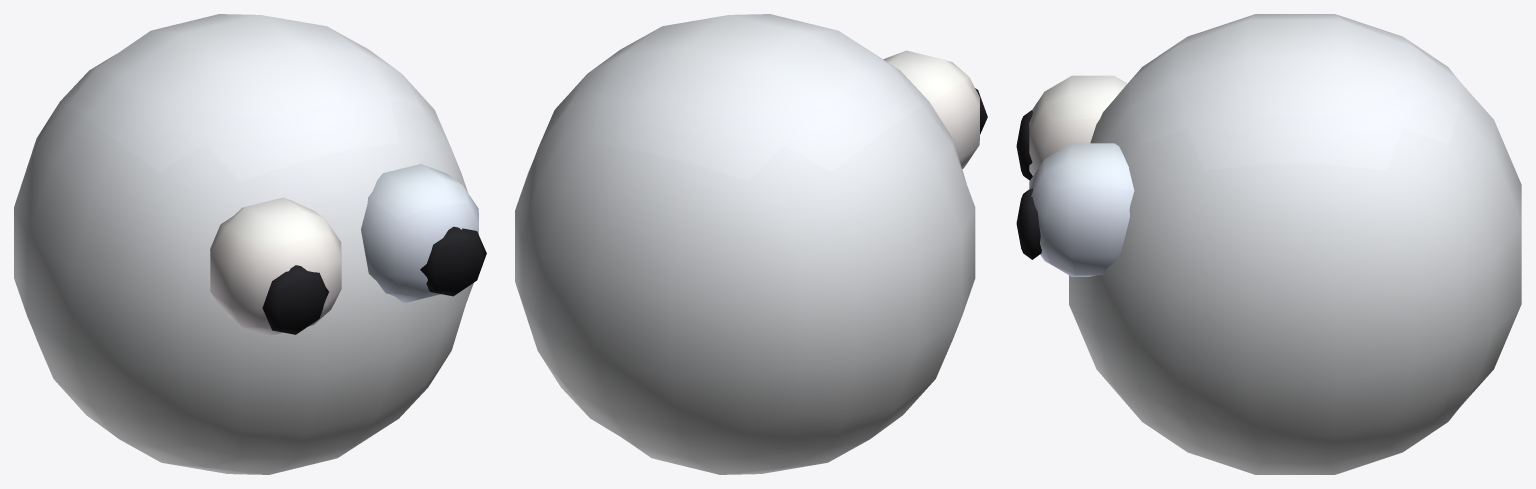
The model's file is BallValley_Kit_Ball_Big.fbx.
The picture shows the model from 3 angles, left to right: view 1: azimuth 30°, elevation 25°; view 2: azimuth 150°, elevation 25°; view 3: azimuth 270°, elevation 25°; orthographic projection.
Visible parts, largest first — view 1: BallValley_Kit_Ball_Big; view 2: BallValley_Kit_Ball_Big; view 3: BallValley_Kit_Ball_Big.
Part boxes in pixels (x1,y1,x2,y2): BallValley_Kit_Ball_Big: [14, 14, 486, 474]; BallValley_Kit_Ball_Big: [515, 14, 987, 474]; BallValley_Kit_Ball_Big: [1016, 14, 1521, 474].
Bounding box in the file's own units: 3.85 × 3.85 × 4.3.
